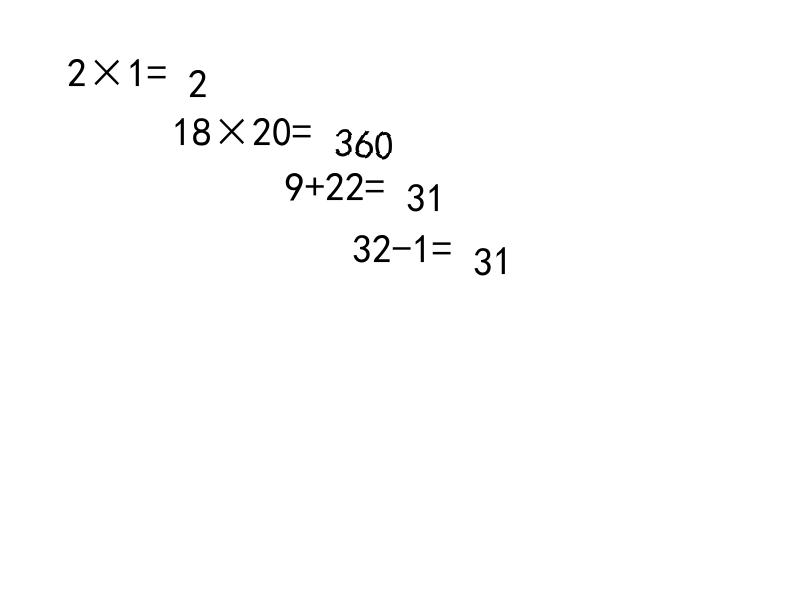+: (305, 166, 325, 195)
-: (392, 228, 412, 257)
0: (272, 111, 292, 141), (362, 111, 382, 141)
1: (172, 111, 192, 141), (127, 52, 147, 81), (415, 166, 435, 195), (412, 228, 432, 257), (482, 228, 502, 257)
2: (252, 111, 272, 141), (67, 52, 87, 81), (177, 52, 197, 81), (325, 166, 345, 195), (345, 166, 365, 195), (372, 228, 392, 257)
3: (322, 111, 342, 141), (395, 166, 415, 195), (352, 228, 372, 257), (462, 228, 482, 257)
6: (342, 111, 362, 141)
8: (192, 111, 212, 141)
9: (285, 166, 305, 195)
=: (292, 111, 312, 141), (147, 52, 167, 81), (365, 166, 385, 195), (432, 228, 452, 257)
×: (212, 111, 252, 141), (87, 52, 127, 81)
